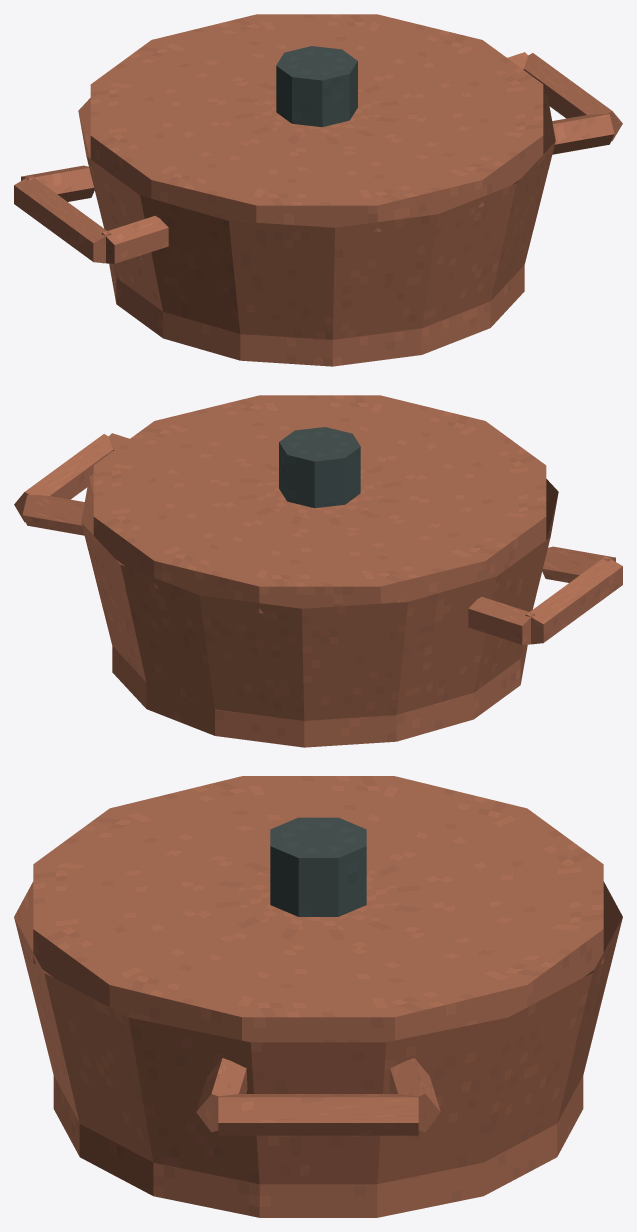
The model's file is casserole.glb.
The picture shows the model from 3 angles, top to bottom: view 1: azimuth 30°, elevation 25°; view 2: azimuth 150°, elevation 25°; view 3: azimuth 270°, elevation 25°; orthographic projection. The views are drawn at different scales.
Visible parts, largest first — view 1: block_lid, block_vessel wall, block_pressed base, block_knob, block_side grip -1 1, block_side grip 1 1, block_side grip -1 2, block_side grip 1 2, block_side grip -1 0; view 2: block_lid, block_vessel wall, block_pressed base, block_knob, block_side grip -1 1, block_side grip 1 1, block_side grip -1 0, block_side grip 1 0, block_side grip -1 2; view 3: block_lid, block_vessel wall, block_pressed base, block_knob, block_side grip 1 1, block_side grip 1 0, block_side grip 1 2.
Boxes of the visible parts, x1,y1,x2,y2 form: block_lid: (90,14,543,232); block_vessel wall: (78,93,555,339); block_pressed base: (109,263,524,366); block_knob: (276,46,357,127); block_side grip -1 1: (14,175,111,263); block_side grip 1 1: (524,53,622,141); block_side grip -1 2: (102,216,168,263); block_side grip 1 2: (543,113,614,154); block_side grip -1 0: (21,165,94,201); block_lid: (93,395,546,613); block_vessel wall: (81,474,558,720); block_pressed base: (112,644,527,747); block_knob: (279,427,360,508); block_side grip -1 1: (525,556,622,644); block_side grip 1 1: (14,434,112,522); block_side grip -1 0: (468,597,534,644); block_side grip 1 0: (22,494,93,535); block_side grip -1 2: (542,546,615,582); block_lid: (33,776,603,1042); block_vessel wall: (14,881,622,1184); block_pressed base: (53,1076,583,1217); block_knob: (270,817,366,916); block_side grip 1 1: (218,1094,418,1135); block_side grip 1 0: (389,1058,440,1132); block_side grip 1 2: (196,1058,247,1132).
Bounding box in the file's own units: 0.22 × 0.0853 × 0.1738.
Materials: 2 (2 with a texture image).
